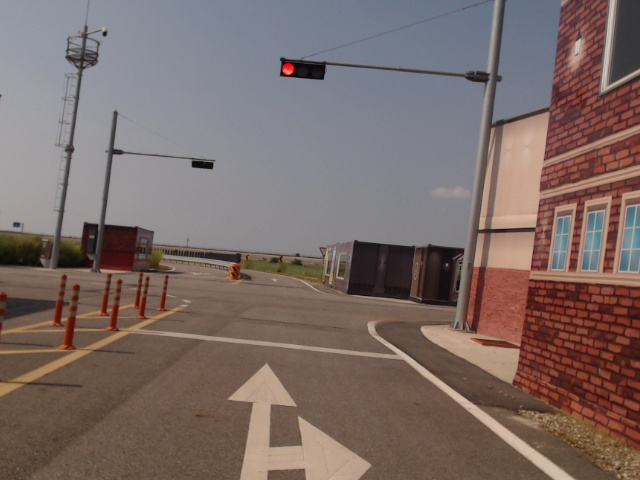red_3: (281, 59, 326, 81)
